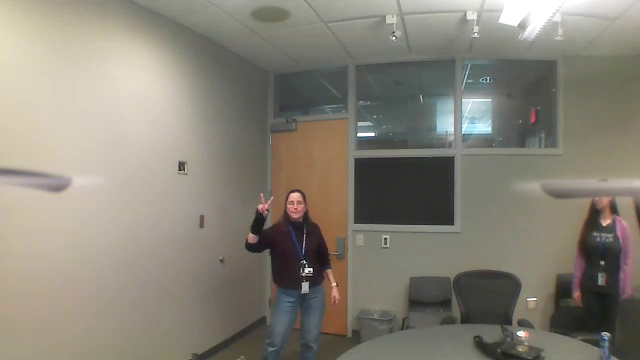peace: (253, 189, 277, 219)
